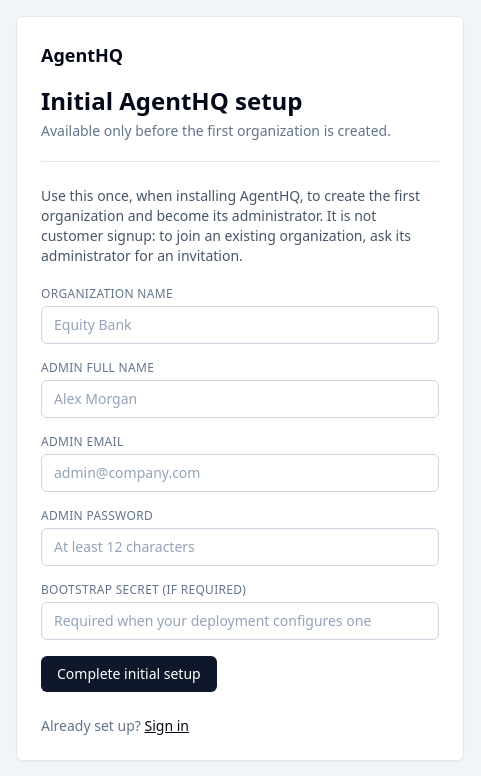
first-install bootstrap stays reachable › 7. /bootstrap has no client-side bypass: the backend's refusal stands
In the field labelled "Organization name": (240, 325) [41,306,439,344], type "Late Org"
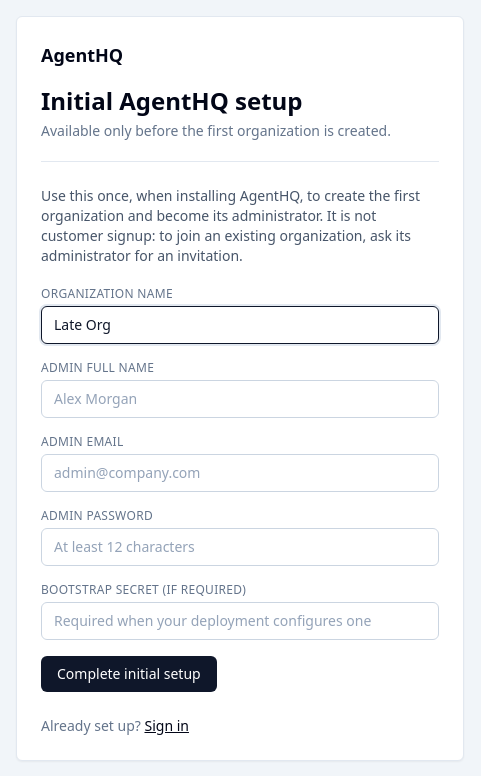
In the field labelled "Admin full name": (240, 399) [41,380,439,418], type "Late Admin"
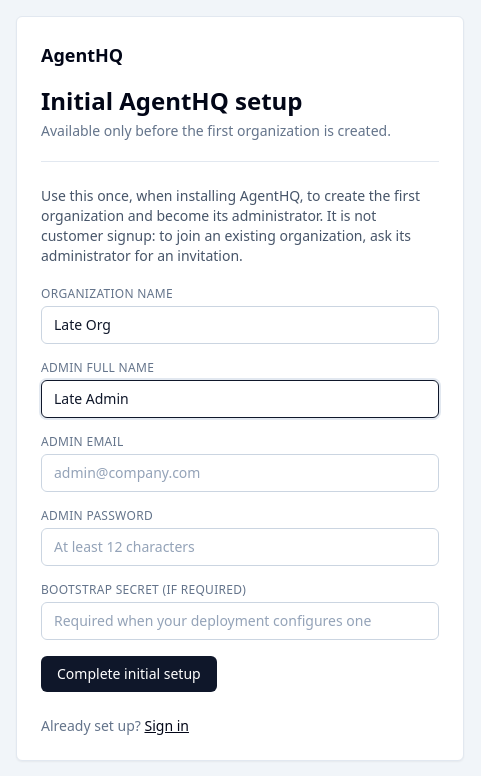
In the field labelled "Admin email": (240, 473) [41,454,439,492], type "late@example.com"
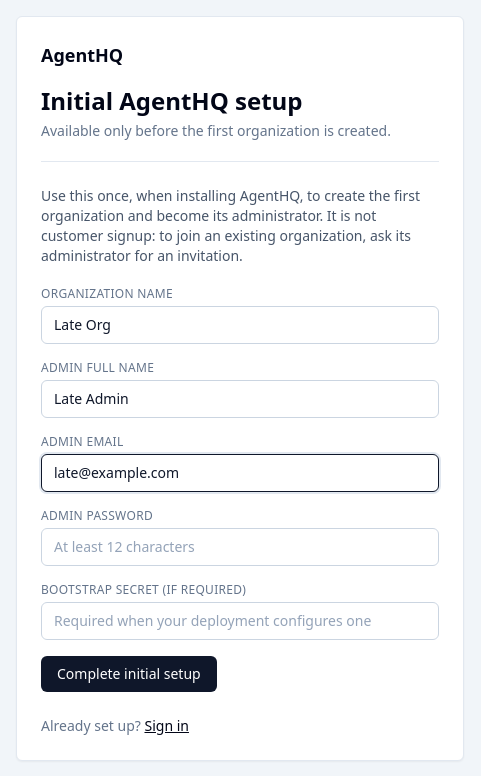
In the password field labelled "Admin password": (240, 547) [41,528,439,566], type "LateAdminPassword123!"
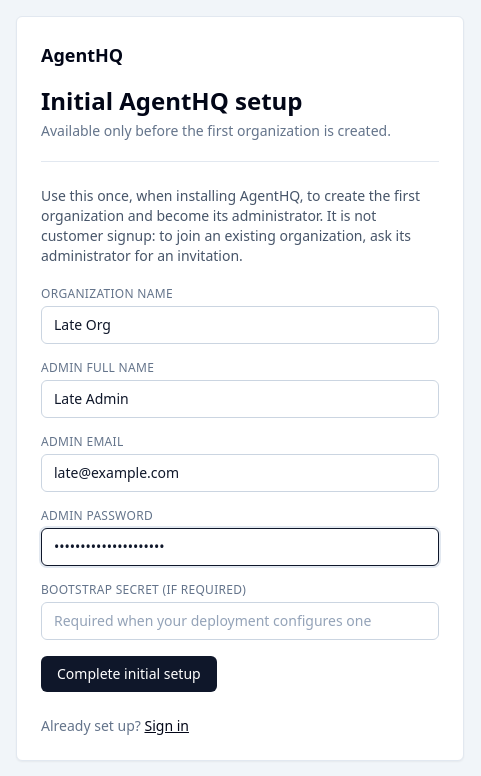
Click the button "Complete initial setup": (129, 674) [41,656,217,692]
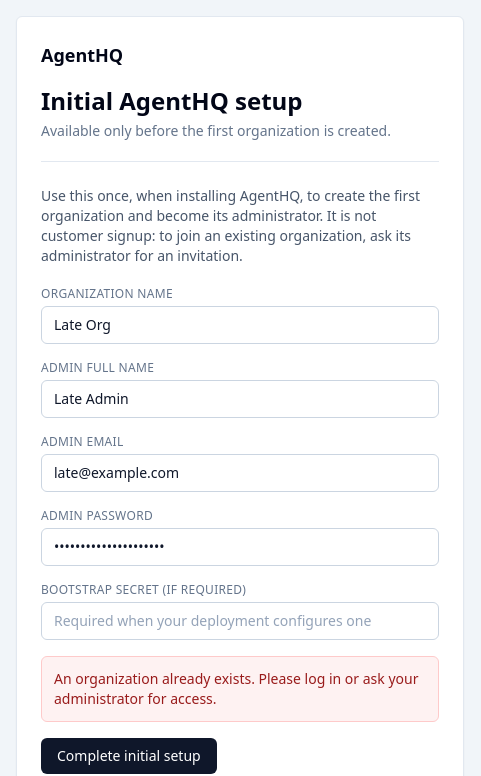
Expected: the text "An organization already exists. Please log in or ask your administrator for access." is shown, [54,669,418,708]
